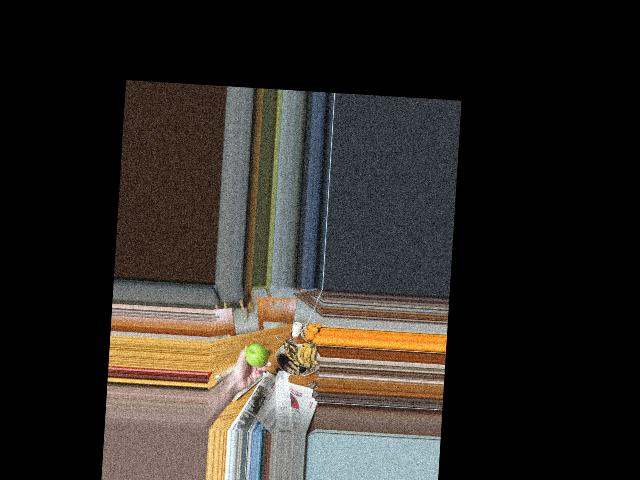apple: (243, 343, 268, 368)
